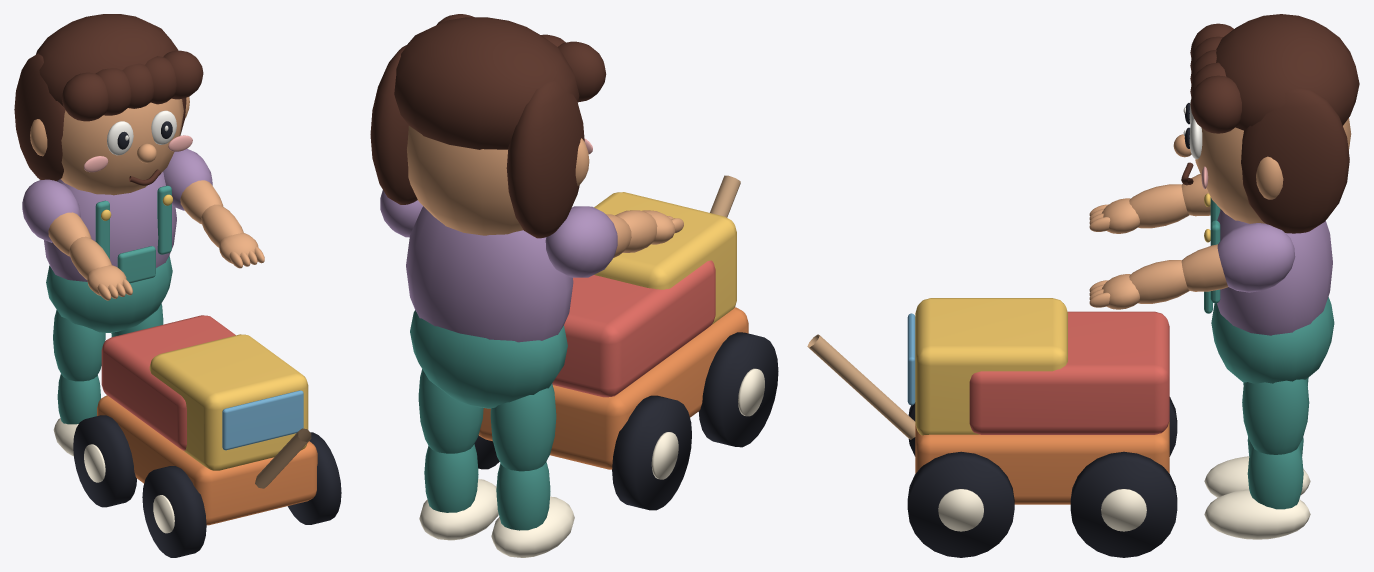
Rendered from mommy-push.glb.
3 views of the same model, side by side, from view 1: azimuth 30°, elevation 25°; view 2: azimuth 150°, elevation 25°; view 3: azimuth 270°, elevation 25° (orthographic). The views are drawn at different scales.
Visible parts, largest first — view 1: cabin, vehicle body, wagon cargo, clay head, hair cap, soft shirt, overalls, rubber wheel, bob hair, rubber wheel.001, windshield, trouser leg (+26 smaller); view 2: hair cap, soft shirt, wagon cargo, vehicle body, overalls, bob hair, clay head, cabin, rubber wheel.001, rubber wheel, trouser leg, bob hair.001 (+15 smaller); view 3: wagon cargo, cabin, bob hair.001, hair cap, vehicle body, rubber wheel.002, rubber wheel.003, soft shirt, overalls, trouser leg.001, shirt sleeve.001, clay head (+15 smaller).
Part boxes in pixels (x1,y1,x2,y2): cabin: [149, 334, 308, 470]; vehicle body: [97, 395, 317, 525]; wagon cargo: [101, 315, 235, 450]; clay head: [61, 98, 183, 195]; hair cap: [36, 14, 178, 106]; soft shirt: [44, 172, 176, 281]; overalls: [46, 255, 172, 332]; rubber wheel: [142, 466, 206, 557]; bob hair: [14, 53, 65, 181]; rubber wheel.001: [73, 415, 136, 507]; windshield: [222, 390, 303, 450]; trouser leg: [53, 310, 105, 381]; hair cap: [394, 17, 579, 149]; soft shirt: [406, 206, 573, 342]; wagon cargo: [552, 260, 715, 397]; vehicle body: [478, 307, 748, 469]; overalls: [410, 310, 567, 408]; bob hair: [506, 81, 584, 238]; clay head: [407, 126, 523, 235]; cabin: [594, 192, 736, 324]; rubber wheel.001: [612, 395, 691, 510]; rubber wheel: [698, 332, 778, 447]; trouser leg: [490, 383, 556, 471]; bob hair.001: [370, 45, 417, 204]; wagon cargo: [969, 311, 1169, 434]; cabin: [915, 298, 1067, 435]; bob hair.001: [1241, 89, 1349, 233]; hair cap: [1216, 14, 1359, 130]; vehicle body: [915, 421, 1169, 504]; rubber wheel.002: [907, 451, 1014, 557]; rubber wheel.003: [1070, 451, 1177, 557]; soft shirt: [1217, 209, 1332, 335]; overalls: [1211, 297, 1334, 383]; trouser leg.001: [1242, 379, 1309, 454]; shirt sleeve.001: [1217, 223, 1295, 292]; clay head: [1195, 118, 1351, 223].
Bounding box in the file's own units: 0.957 × 2.14 × 2.17.
